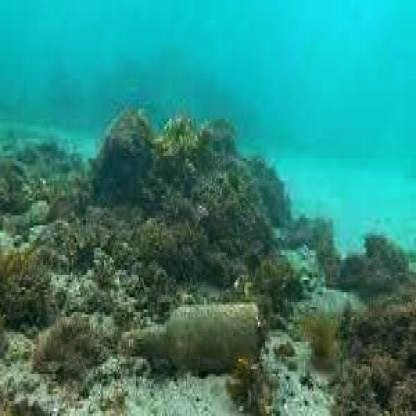gbottle: (122, 304, 261, 376)
